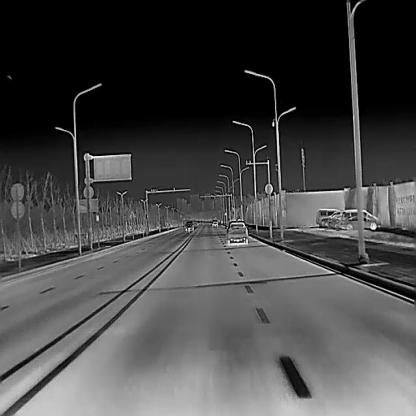car: (340, 209, 380, 227), (226, 220, 248, 244), (342, 216, 376, 231), (315, 206, 340, 224), (185, 221, 193, 231), (212, 220, 219, 228)
